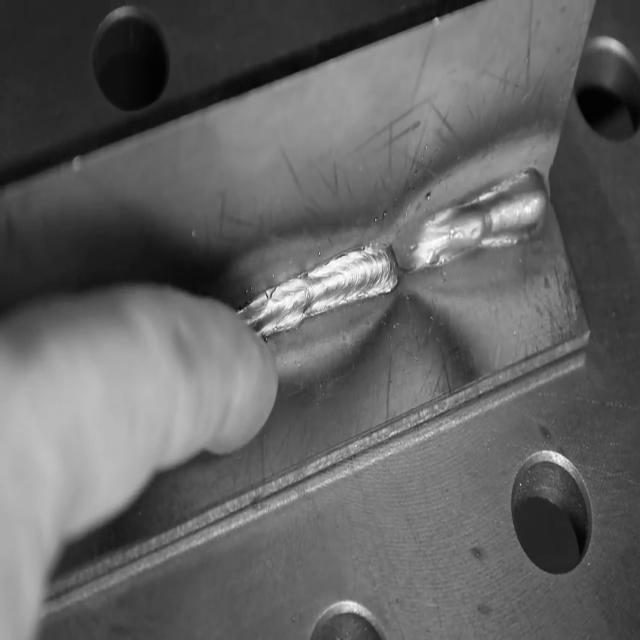Bad Weld: (278, 166, 547, 340)
